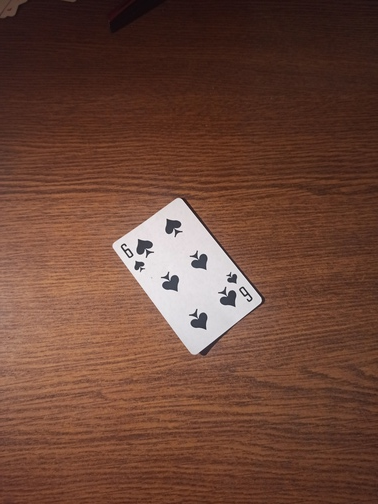sixspades: (110, 198, 264, 356)
